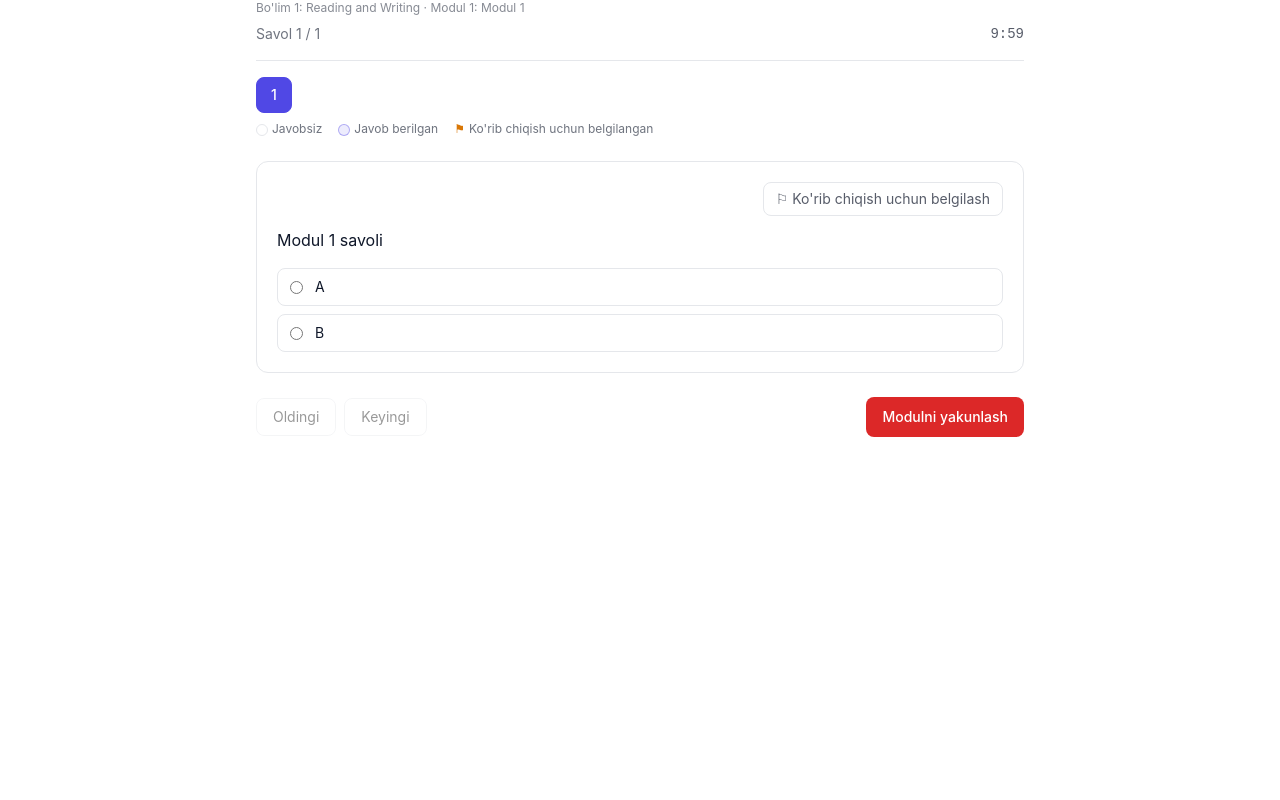
it: AttemptPage — Sprint 76 modular exam UI › disables the finish button while a module submission is pending
Expected: the text "Modul 1 savoli" is shown, [277,230,383,250]
What coordinates should you click on to do the following:
click the button "Modulni yakunlash"
I would click on:
 (945, 417)
Its box is [866,397,1024,437].
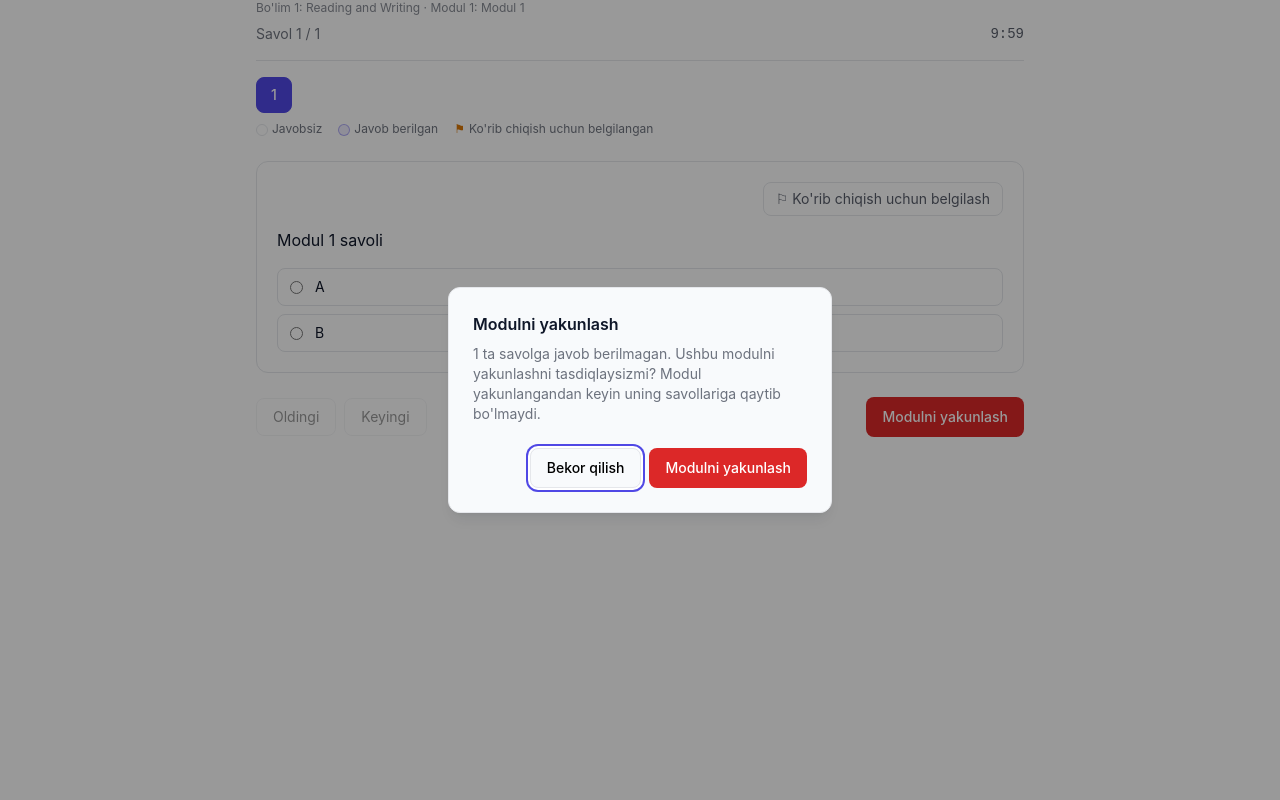
What coordinates should you click on to do the following:
click the button "Modulni yakunlash"
I would click on:
 (728, 468)
Its box is [650,448,807,488].
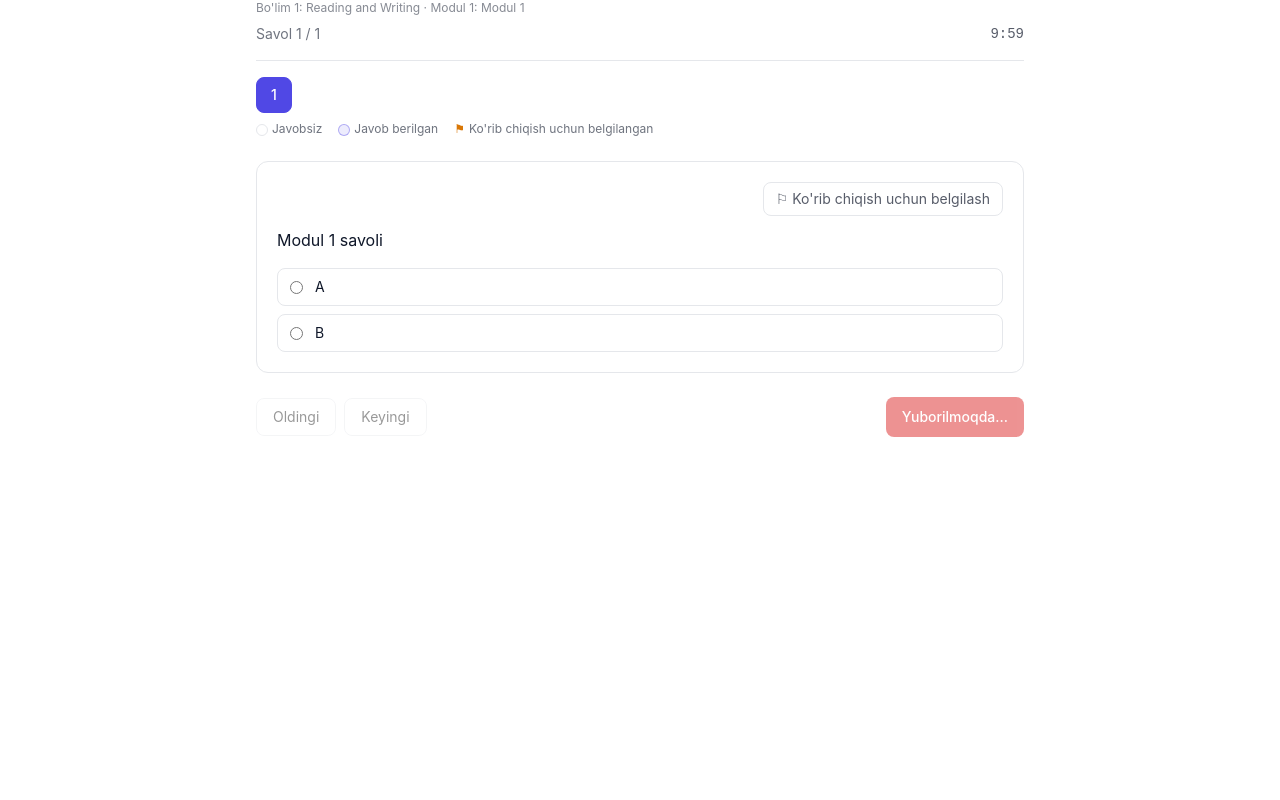
Expected: the button "Yuborilmoqda..." is disabled, [886,397,1024,437]
